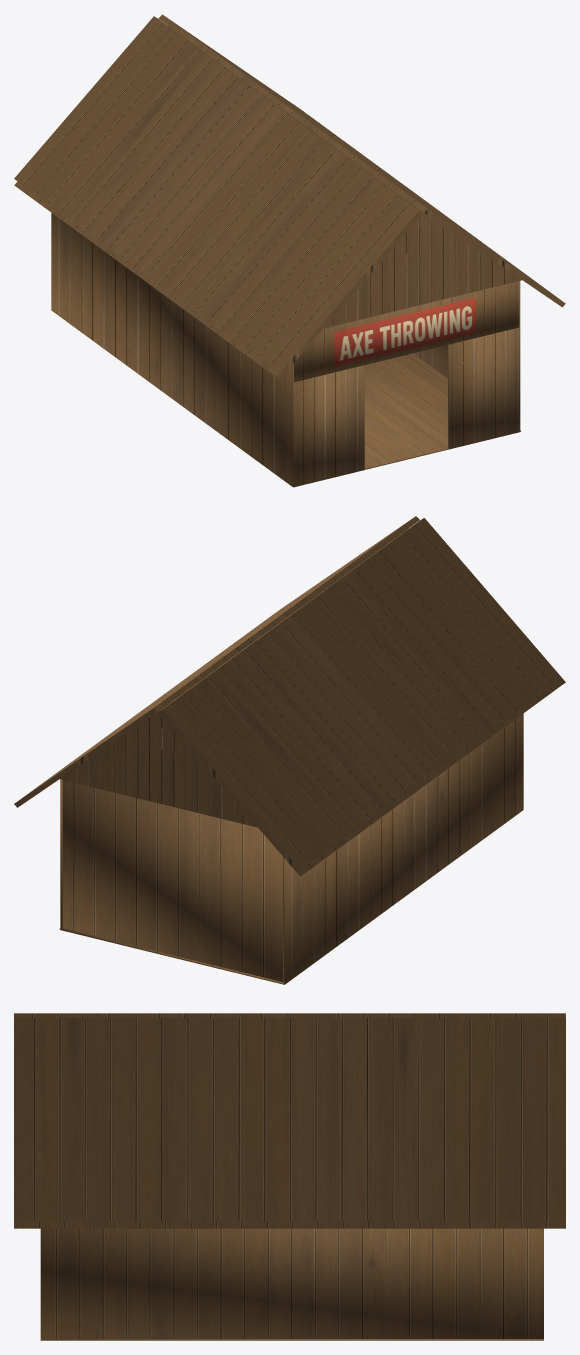
File: StandHacha.obj
3 views of the same model, one above another, from view 1: azimuth 30°, elevation 25°; view 2: azimuth 150°, elevation 25°; view 3: azimuth 270°, elevation 25° (orthographic). The views are drawn at different scales.
Parts seen in each view (by area): view 1: TechoI, ParedI, Rotulo, FrontonD, Piso, ParedDD, ParedDI, TechoD, ParedD; view 2: TechoI, ParedT, ParedI, FrontonTT, TechoD, Piso; view 3: TechoD, ParedD, TechoI, Piso.
Part boxes in pixels (<box>): TechoI: <box>14,16,423,379</box>; ParedI: <box>51,213,293,487</box>; Rotulo: <box>294,281,519,382</box>; FrontonD: <box>324,201,521,328</box>; Piso: <box>364,353,520,469</box>; ParedDD: <box>448,327,519,449</box>; ParedDI: <box>294,365,364,487</box>; TechoD: <box>158,14,565,307</box>; ParedD: <box>281,108,520,431</box>; TechoI: <box>158,518,565,876</box>; ParedT: <box>62,780,283,981</box>; ParedI: <box>283,713,523,984</box>; FrontonTT: <box>60,701,257,827</box>; TechoD: <box>14,516,419,807</box>; Piso: <box>59,928,283,984</box>; TechoD: <box>14,1018,565,1228</box>; ParedD: <box>40,1228,543,1338</box>; TechoI: <box>14,1013,565,1017</box>; Piso: <box>40,1339,543,1340</box>.
Size of the model in its own units: 24.87 by 20.96 by 38.94.
